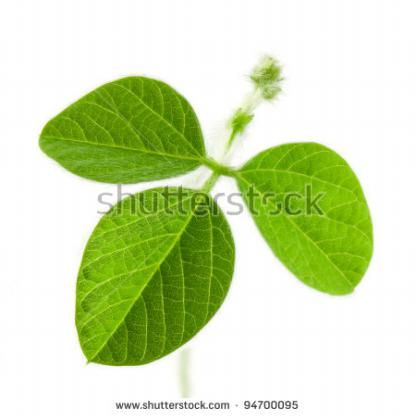Soyabean leaf: (69, 180, 239, 375), (233, 139, 376, 301), (31, 73, 208, 193)
